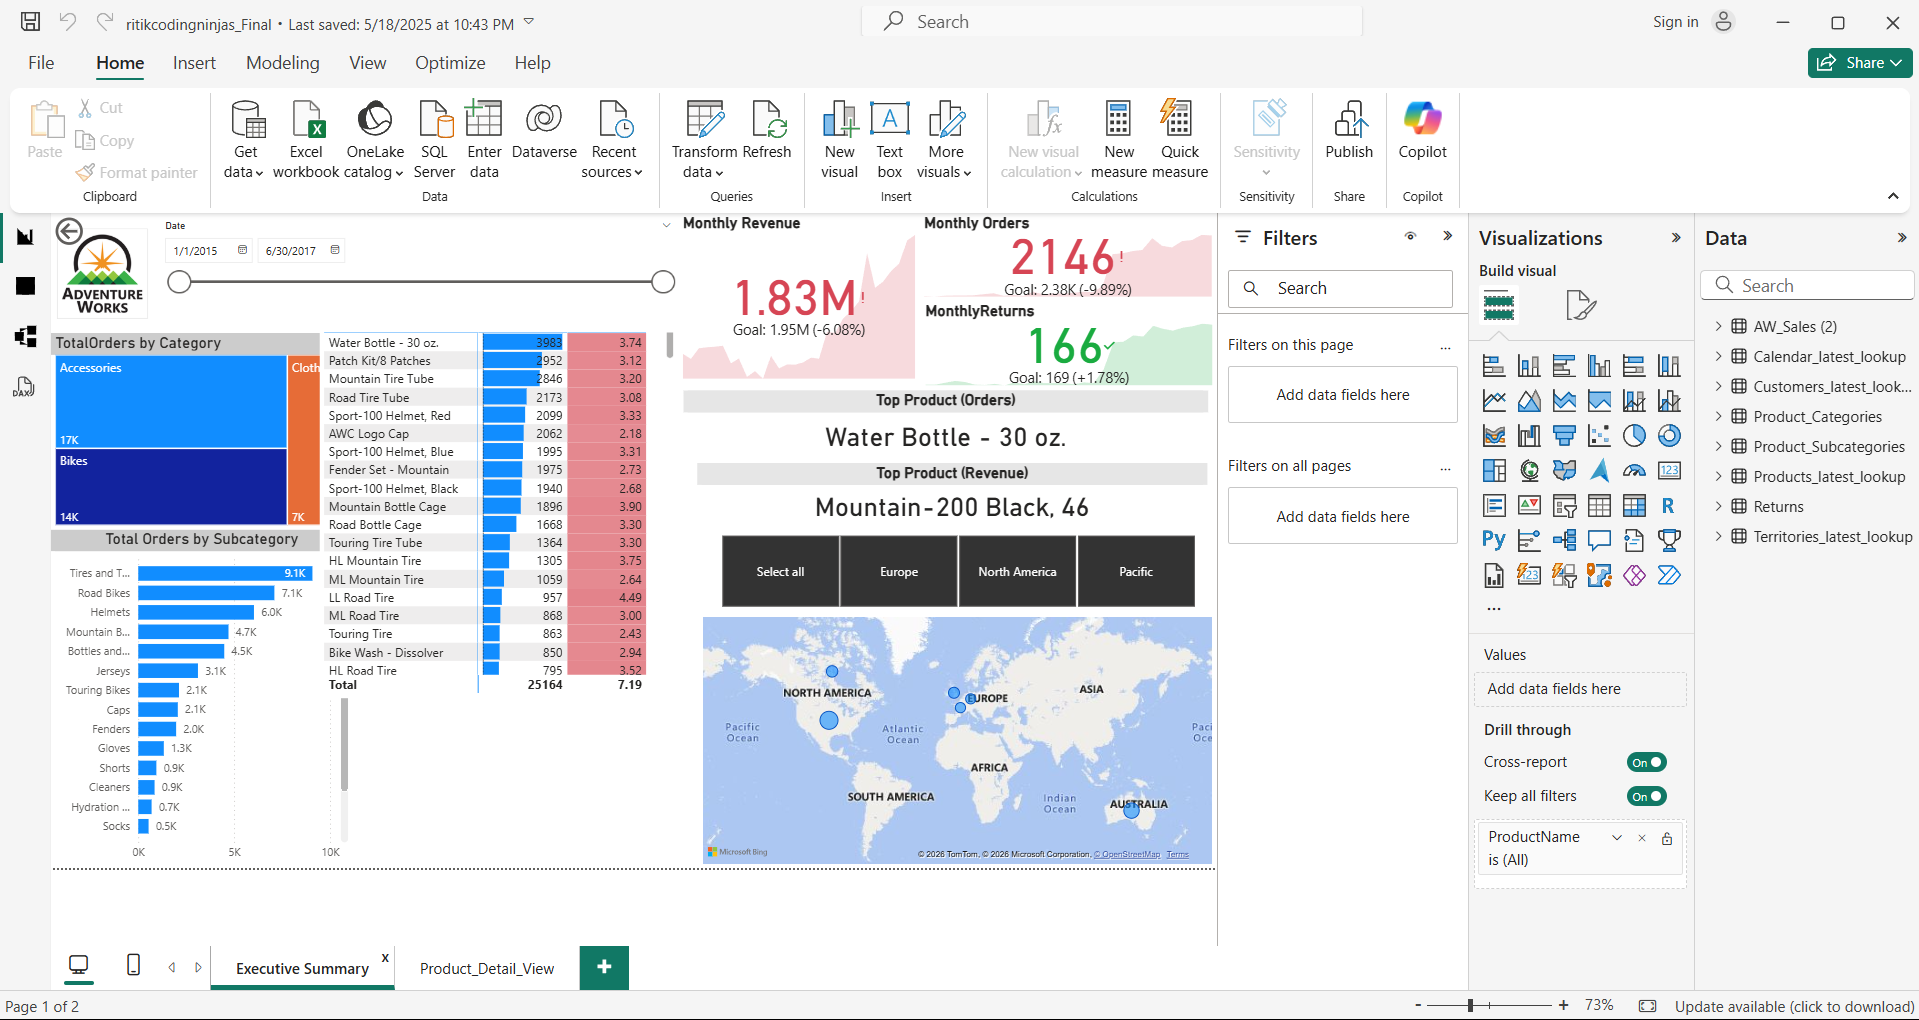

The page's visual inventory and layout, read from the dashboard file:
{"tool":"powerbi","page":{"name":"Page 1","canvas":[1280,720],"ordinal":0},"visuals":[{"type":"image","box":[0,0,136.7,148.9],"z":0},{"type":"barChart","title":"Total Orders by Subcategory","fields":{"Y":["AW_Sales (2).TotalOrders"],"Category":["Product_Subcategories.SubcategoryName"]},"box":[0,360,331.1,328.9],"z":2},{"type":"treemap","title":"TotalOrders  by CategoryName","fields":{"Values":["AW_Sales (2).TotalOrders"],"Group":["Product_Categories.CategoryName"]},"box":[0,141.1,331.1,215.6],"z":3},{"type":"pivotTable","fields":{"Rows":["Products_latest_lookup.ProductName"],"Values":["AW_Sales (2).TotalOrders","Returns.Return_Rate"]},"box":[346.7,141.1,373.3,544.4],"z":4},{"type":"actionButton","box":[0,0,100,40],"z":5},{"type":"kpi","title":"Monthly Revenue","fields":{"Indicator":["AW_Sales (2).Total_Revenue_X"],"TrendLine":["Calendar_latest_lookup.Start of Month"],"Goal":["AW_Sales (2).RevenueTaarget"]},"box":[704.4,0,285.6,248.9],"z":6},{"type":"kpi","title":"Monthly Orders","fields":{"Indicator":["AW_Sales (2).TotalOrders"],"TrendLine":["Calendar_latest_lookup.Start of Month"],"Goal":["AW_Sales (2).Order Targer"]},"box":[1004.4,0,275.6,141.1],"z":7},{"type":"kpi","title":"MonthlyReturns","fields":{"Indicator":["Returns.TotalReturnOrders"],"TrendLine":["Calendar_latest_lookup.Start of Month"],"Goal":["Returns.PrevMonthReturn"]},"box":[1004.4,141.1,275.6,116.7],"z":10},{"type":"card","title":"Top Product (Orders)","fields":{"Values":["Products_latest_lookup.ProductName"]},"box":[705,248.3,575,80],"z":11},{"type":"card","title":"Top Product (Revenue)","fields":{"Values":["Products_latest_lookup.ProductName"]},"box":[713.3,343.3,560,85],"z":12}]}

Visuals, with their boxes on the page's 1280x720 design canvas (x1, y1, x2, y2). These are canvas units, not pixel positions in the 1919x1020 screenshot, which may show the page scaled, cropped or inside an application window:
image: left=0, top=0, right=137, bottom=149
"Total Orders by Subcategory" barChart: left=0, top=360, right=331, bottom=689
"TotalOrders  by CategoryName" treemap: left=0, top=141, right=331, bottom=357
pivotTable - Products_latest_lookup.ProductName x AW_Sales (2).TotalOrders: left=347, top=141, right=720, bottom=686
actionButton: left=0, top=0, right=100, bottom=40
"Monthly Revenue" kpi: left=704, top=0, right=990, bottom=249
"Monthly Orders" kpi: left=1004, top=0, right=1280, bottom=141
"MonthlyReturns" kpi: left=1004, top=141, right=1280, bottom=258
"Top Product (Orders)" card: left=705, top=248, right=1280, bottom=328
"Top Product (Revenue)" card: left=713, top=343, right=1273, bottom=428
